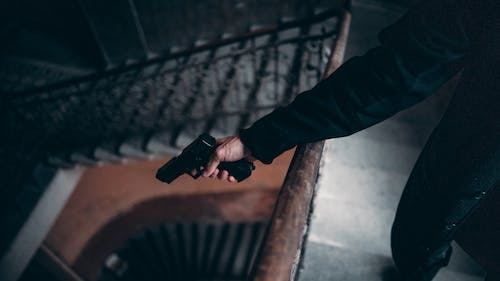gun: (154, 130, 256, 186)
